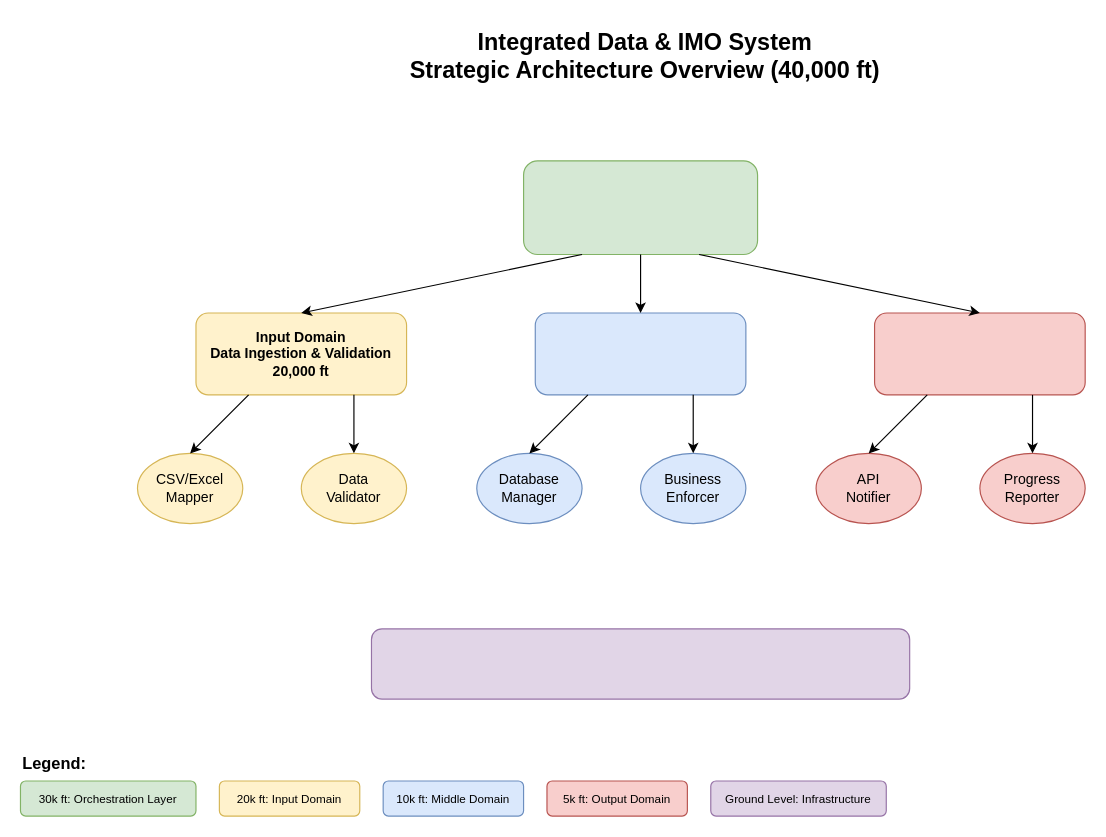
This 1106x837 diagram has some shape labels left out. The shapes that lost their labels are listed below. From the top down, each one's box as (x1, y1, x2, y2) in pixels, then its label:
(522, 160, 758, 254): Overall Orchestrator (Christmas Tree Trunk) 30,000 ft
(534, 312, 746, 395): Middle Domain Processing & Database 10,000 ft
(873, 312, 1085, 395): Output Domain Notifications & Reporting 5,000 ft
(370, 628, 910, 699): MCP Infrastructure & Composio Integration Ground Level (0 ft)
